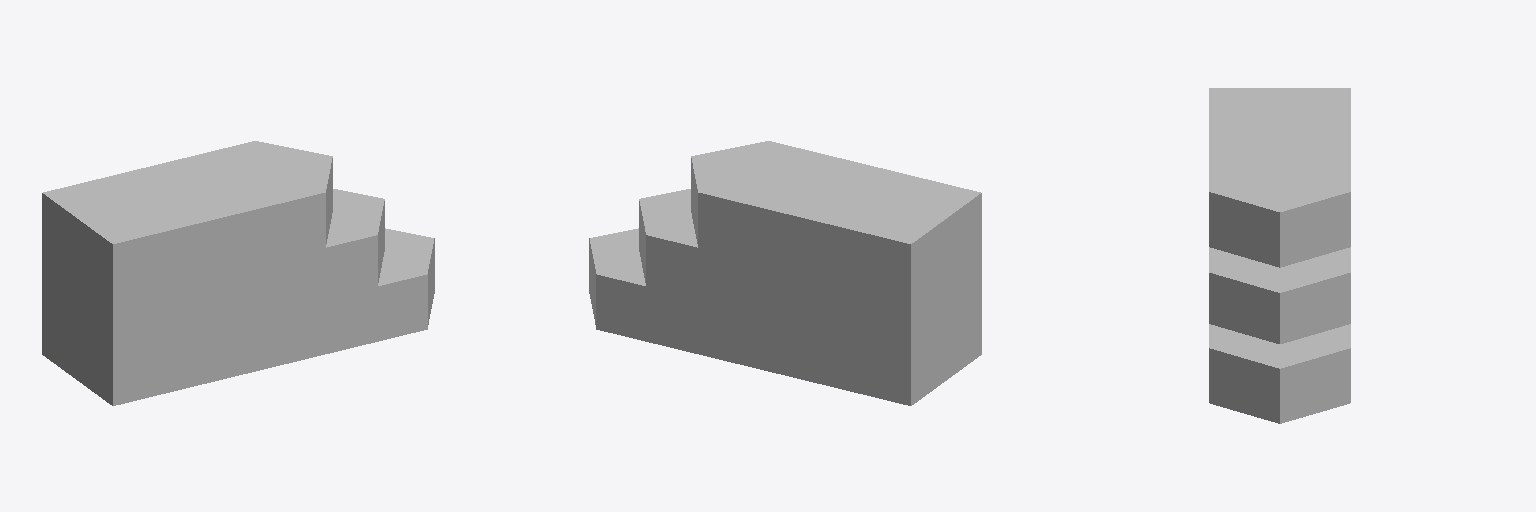
The model's file is separator_003.obj.
3 views of the same model, side by side, from view 1: azimuth 30°, elevation 25°; view 2: azimuth 150°, elevation 25°; view 3: azimuth 270°, elevation 25° (orthographic).
Visible parts, largest first — view 1: separator.003_Cube.014; view 2: separator.003_Cube.014; view 3: separator.003_Cube.014.
Boxes of the visible parts, x1,y1,x2,y2 form: separator.003_Cube.014: [42, 141, 434, 405]; separator.003_Cube.014: [589, 141, 981, 405]; separator.003_Cube.014: [1209, 88, 1350, 423].
Bounding box in the file's own units: 1.22 × 0.5296 × 0.4185.